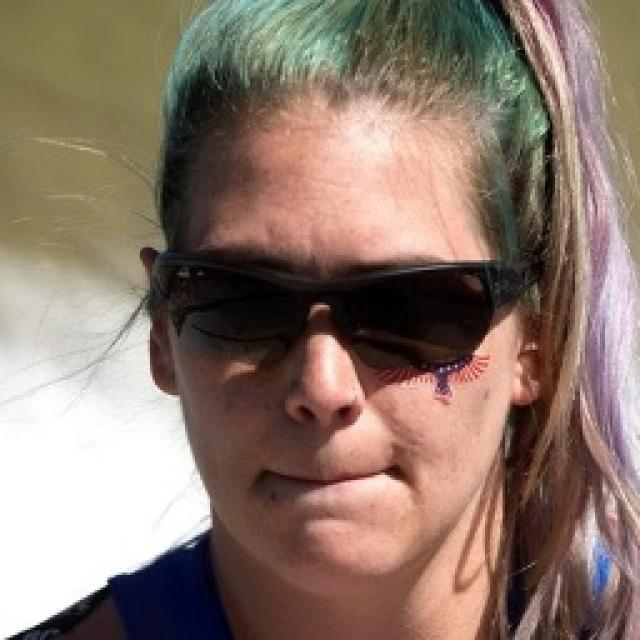glasses: (150, 235, 559, 391)
